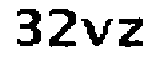2: (47, 5, 84, 54)
3: (12, 7, 44, 53)
v: (82, 15, 113, 50)
z: (117, 16, 147, 50)
